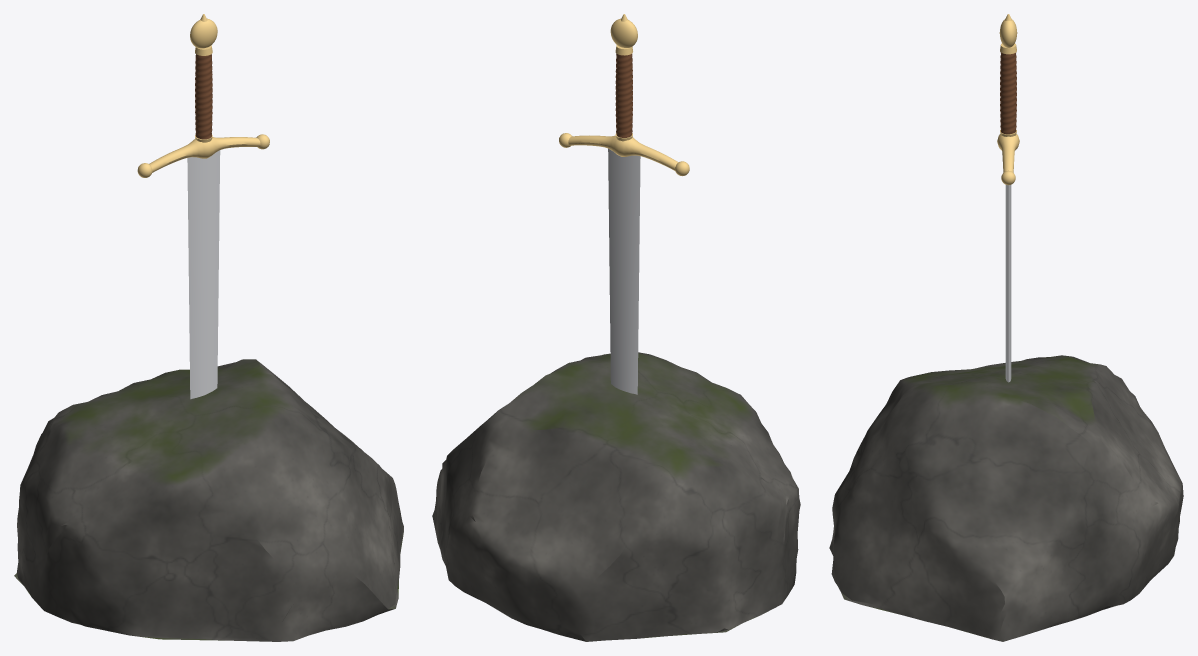
Rendered from SwordInStone.glb.
3 renders of one model, left to right at view 1: azimuth 30°, elevation 25°; view 2: azimuth 150°, elevation 25°; view 3: azimuth 270°, elevation 25°, orthographic. The views are drawn at different scales.
Parts seen in each view (by area): view 1: Stone, Sword; view 2: Stone, Sword; view 3: Stone, Sword.
Part boxes in pixels (x1,y1,x2,y2): Stone: (14, 359, 403, 641); Sword: (137, 14, 269, 399); Stone: (432, 352, 800, 641); Sword: (559, 14, 689, 394); Stone: (829, 355, 1183, 641); Sword: (997, 14, 1019, 382).
Size of the model in its own units: 1.09 by 1.62 by 0.9727.
4 materials, 1 textured.
